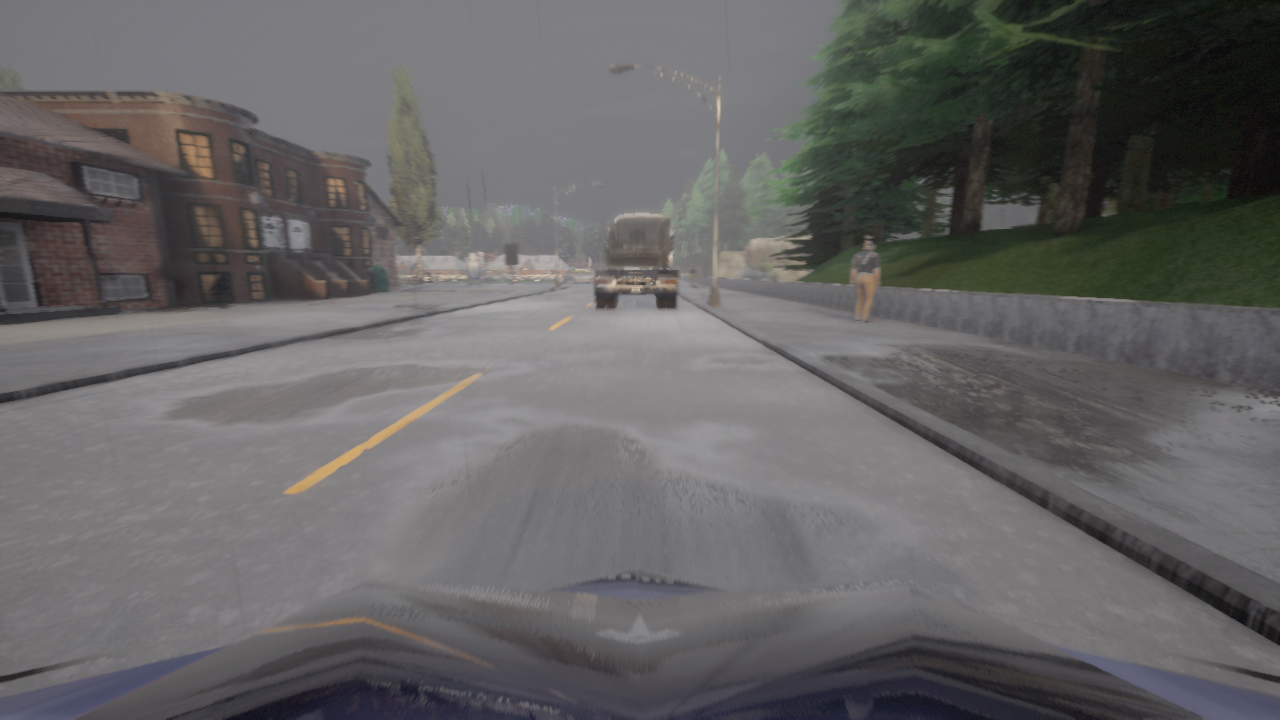cyclist: (0, 569, 1279, 719), (593, 217, 679, 309), (568, 271, 594, 284), (615, 214, 666, 220), (414, 276, 429, 282)
pedestrian: (852, 239, 879, 323), (687, 265, 693, 286), (693, 265, 696, 286), (677, 266, 680, 276)
